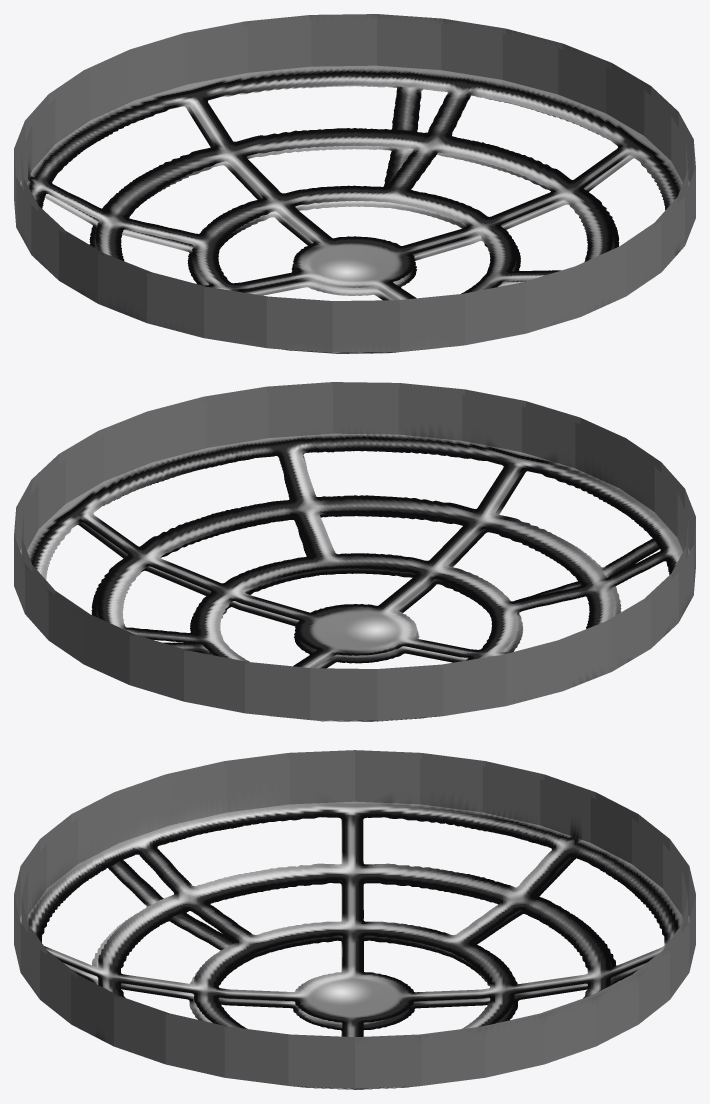
Rendered from FanCellFront.fbx.
The picture shows the model from 3 angles, top to bottom: view 1: azimuth 30°, elevation 25°; view 2: azimuth 150°, elevation 25°; view 3: azimuth 270°, elevation 25°; orthographic projection.
Parts seen in each view (by area): view 1: Cube_001; view 2: Cube_001; view 3: Cube_001.
Part boxes in pixels (x1,y1,x2,y2): Cube_001: [14, 14, 695, 353]; Cube_001: [14, 382, 695, 721]; Cube_001: [14, 750, 695, 1089].
Bounding box in the file's own units: 2 × 0.3667 × 2.
